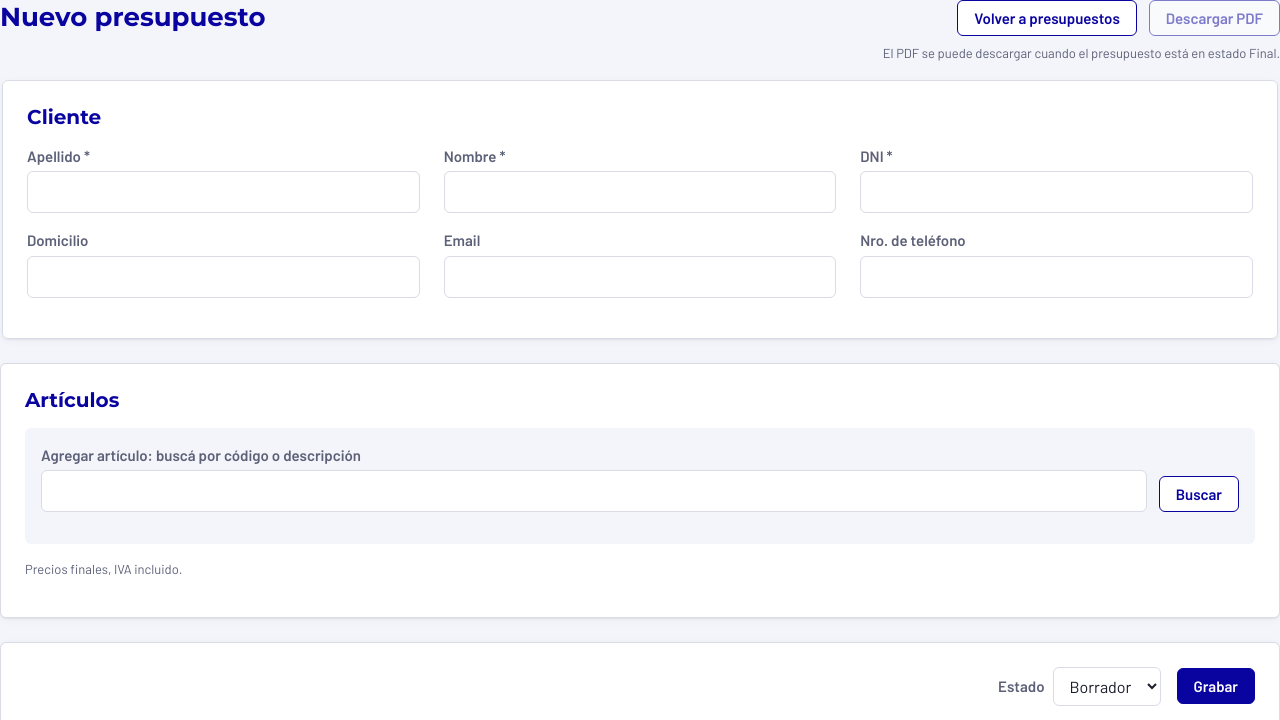
Test: pantalla de presupuesto › AC-11: el total suma los precios finales redondeados de todas las líneas
The image size is (1280, 720).
In the search field labelled "Agregar artículo: buscá por código o descripción": {"x": 594, "y": 491} x1=41 y1=470 x2=1147 y2=512, type "lente"
Click the button "Buscar": {"x": 1199, "y": 494} x1=1159 y1=476 x2=1239 y2=512
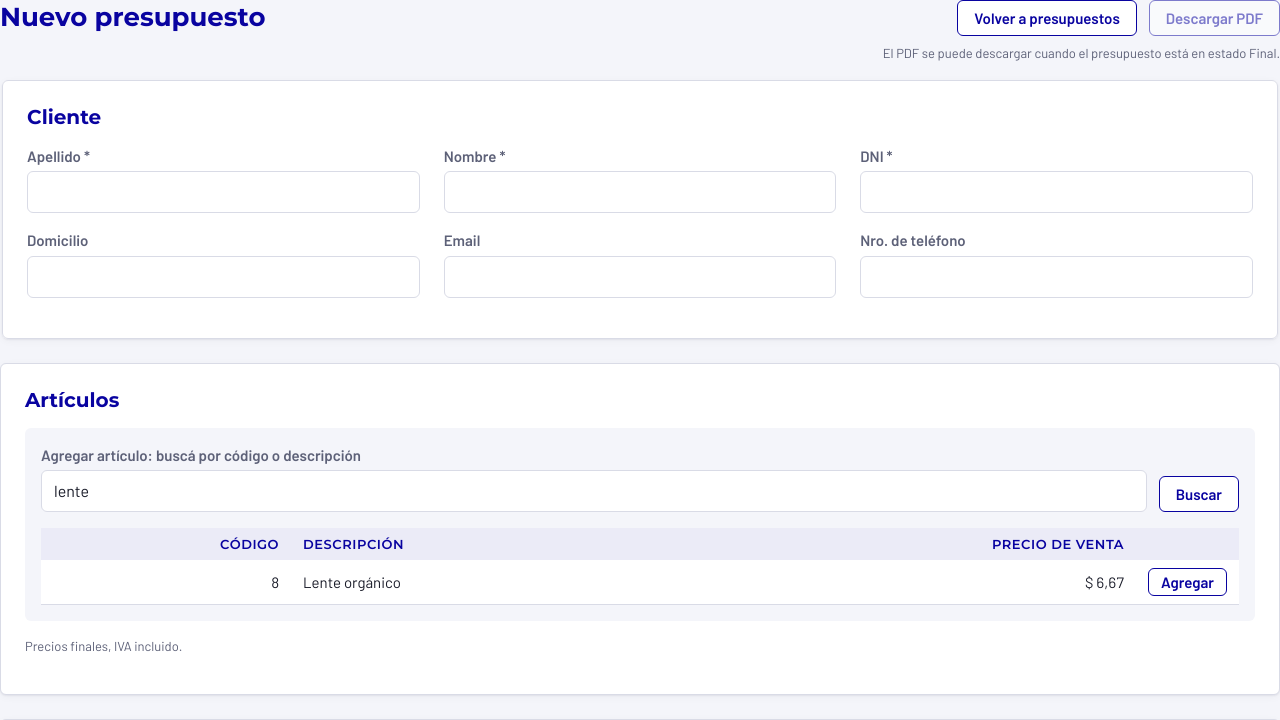
Click the button "Agregar": {"x": 1188, "y": 582} x1=1148 y1=568 x2=1227 y2=596
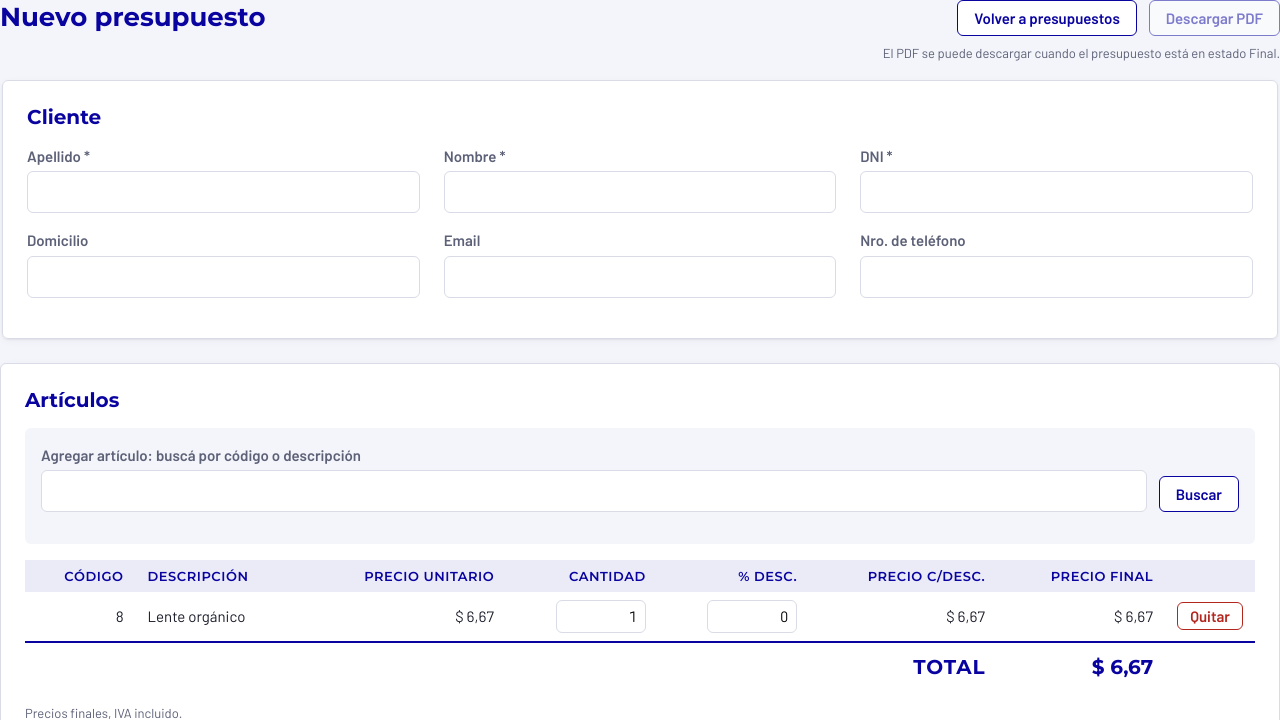
In the search field labelled "Agregar artículo: buscá por código o descripción": {"x": 594, "y": 491} x1=41 y1=470 x2=1147 y2=512, type "armazon"
Click the button "Buscar": {"x": 1199, "y": 494} x1=1159 y1=476 x2=1239 y2=512
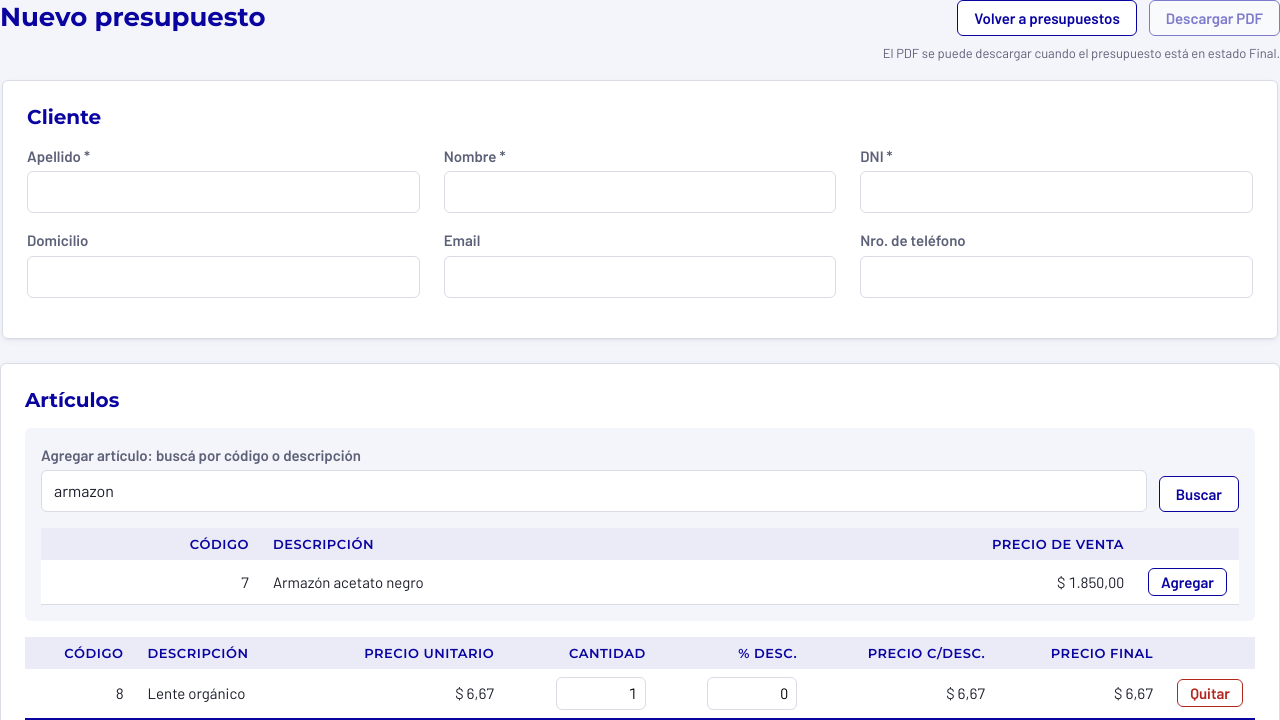
Click the button "Agregar": {"x": 1188, "y": 582} x1=1148 y1=568 x2=1227 y2=596
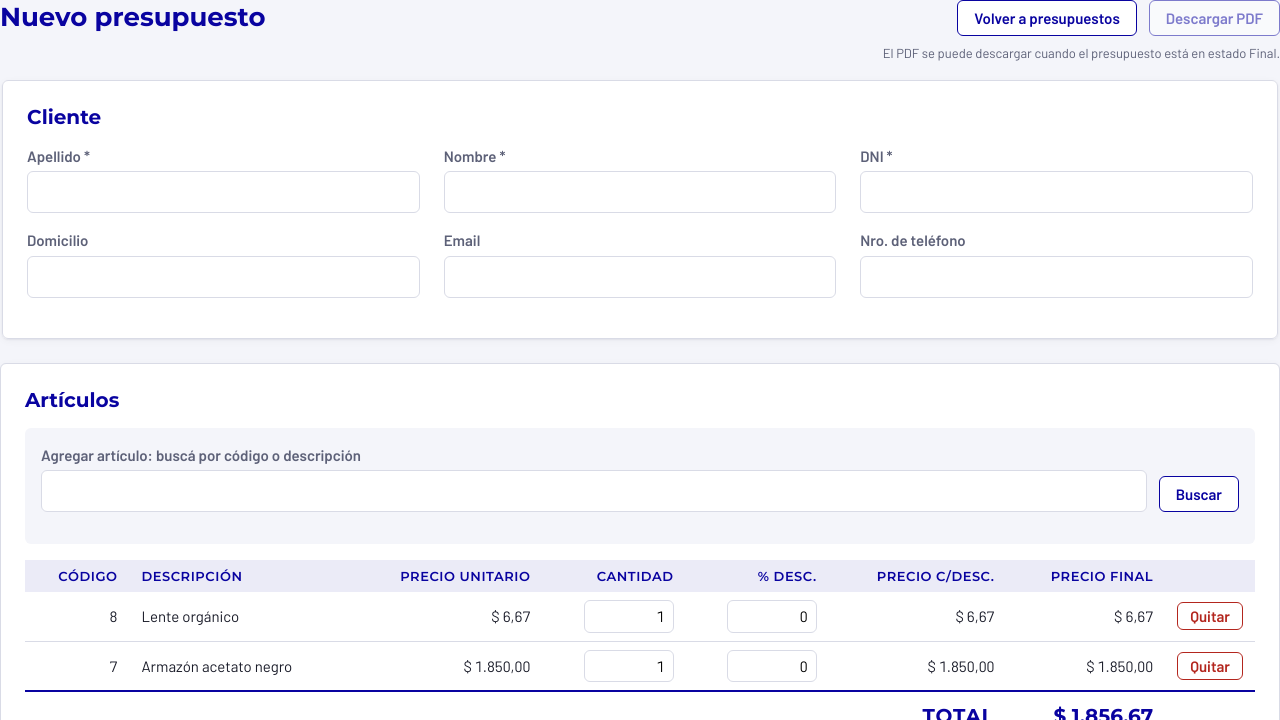
Replace the text in the field named "Cantidad de la línea 1" with "3": {"x": 628, "y": 616} x1=584 y1=600 x2=674 y2=632
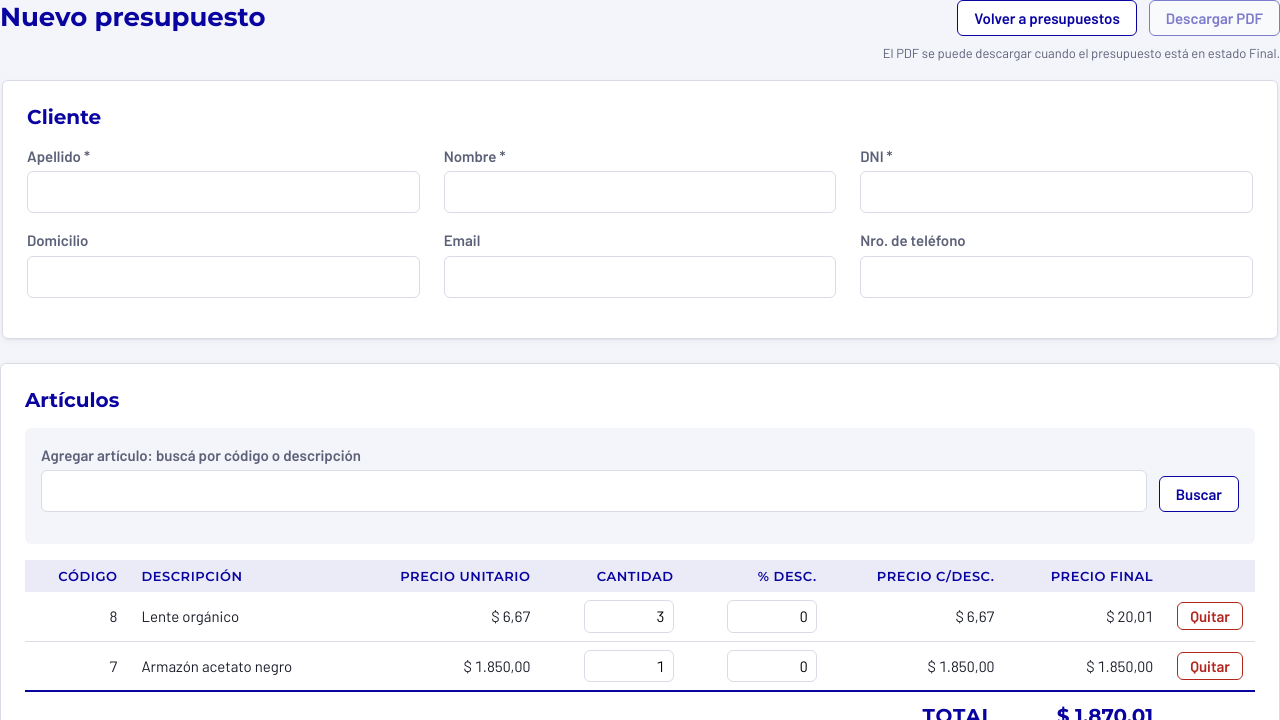
Replace the text in the field named "Descuento de la línea 1" with "50": {"x": 772, "y": 616} x1=727 y1=600 x2=817 y2=632
(page scrolled)
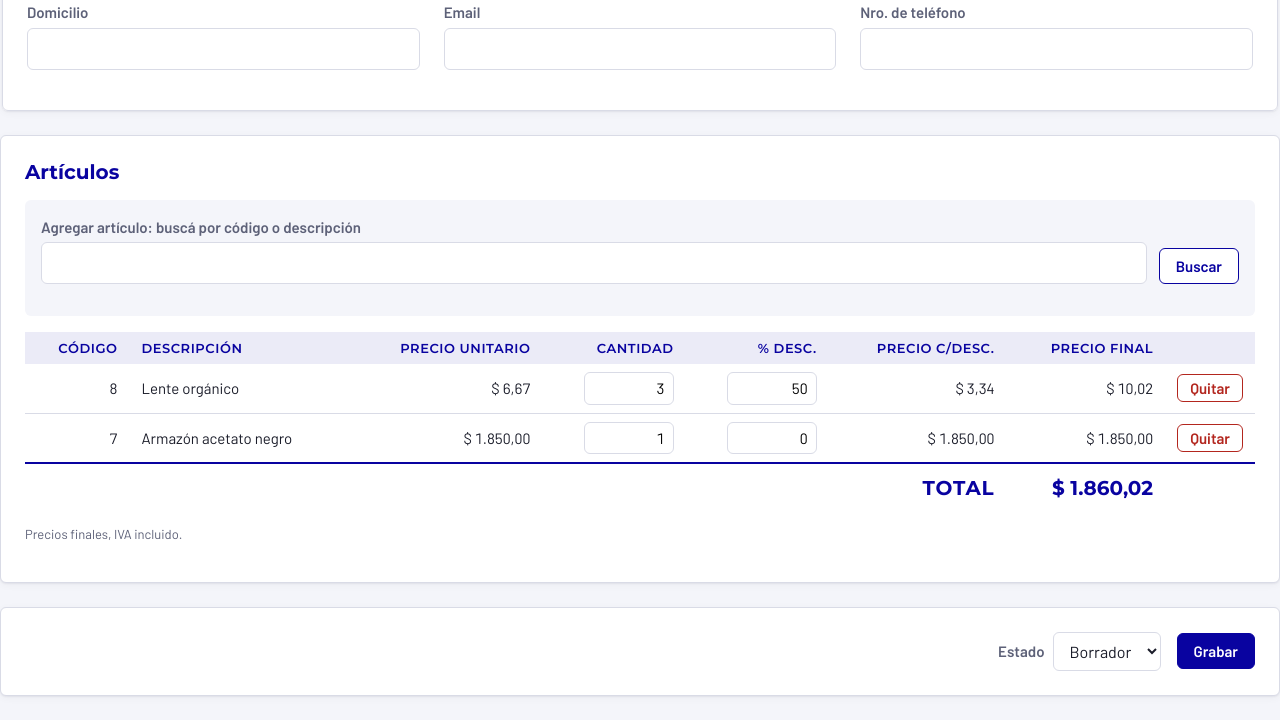
Result: the cell with test id "total" shows "1.860,02" at x1=1052 y1=476 x2=1153 y2=500
